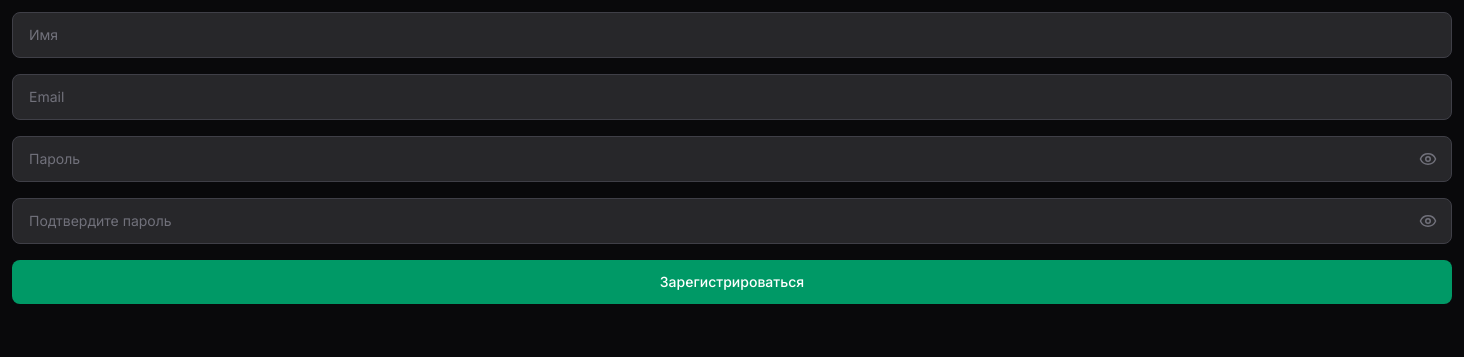
Scenario: RegisterForm › shows server-returned error
Type "Тест" into the field with placeholder "Имя" at x=732, y=35, box [12, 12, 1452, 58]
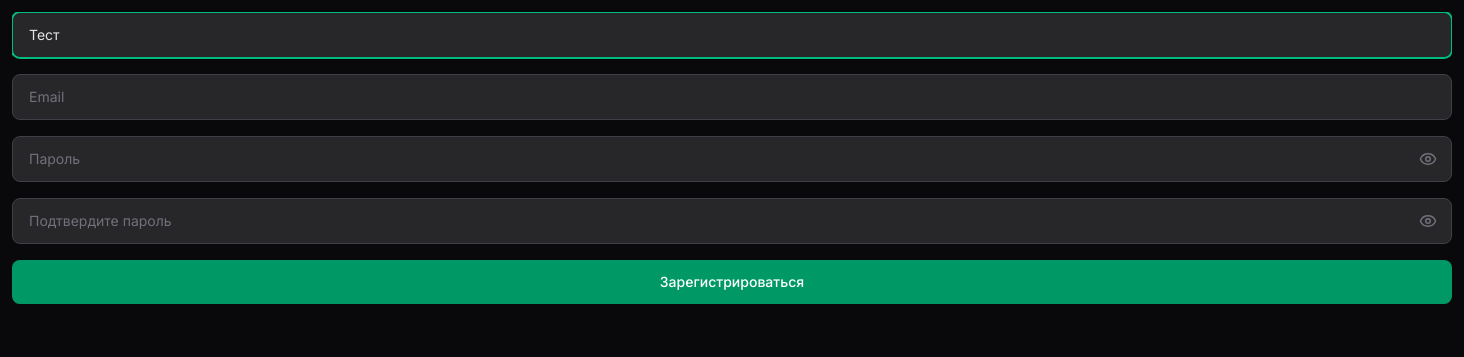
Type "test@example.com" into the field with placeholder "Email" at x=732, y=97, box [12, 74, 1452, 120]
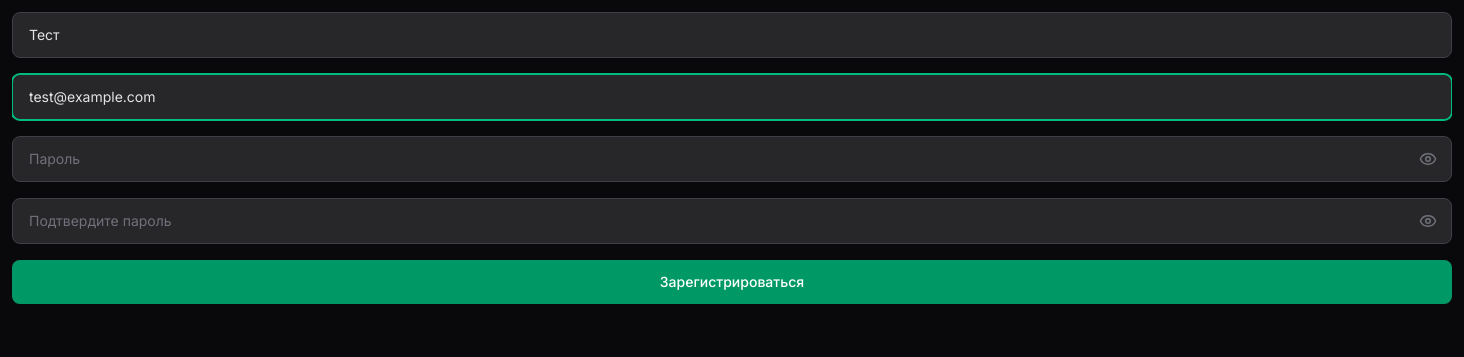
Type "password123" into the password field with placeholder "Пароль" at x=732, y=159, box [12, 136, 1452, 182]
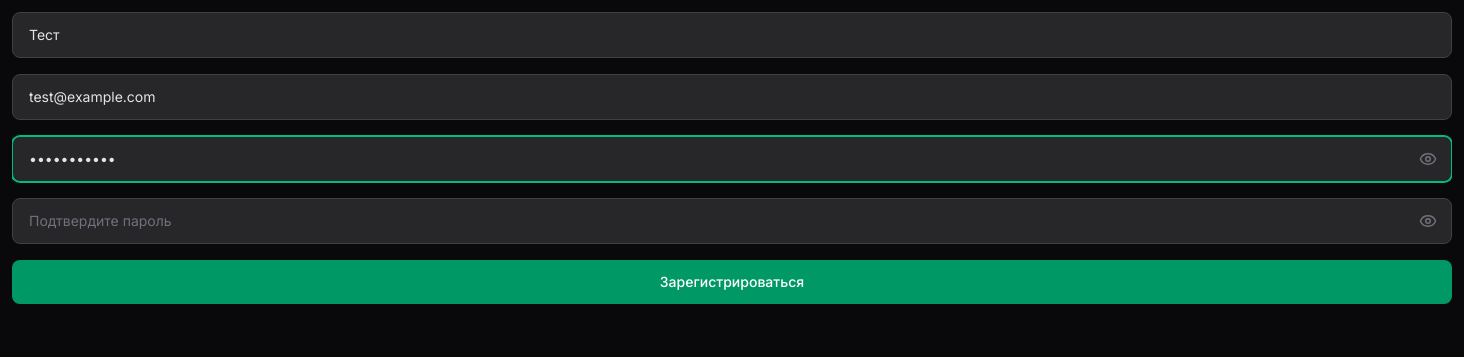
Type "password123" into the password field with placeholder "Подтвердите пароль" at x=732, y=221, box [12, 198, 1452, 244]
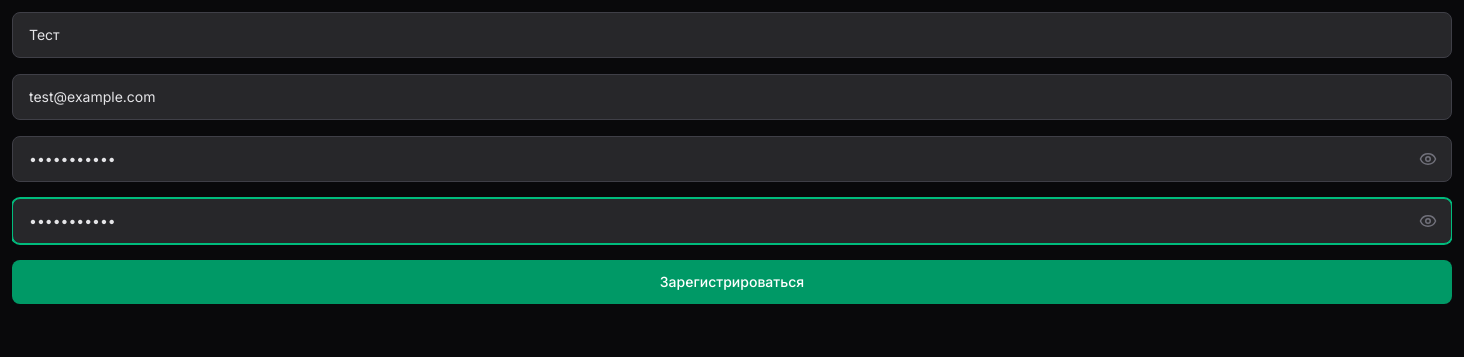
Click the button "Зарегистрироваться" at x=732, y=282, box [12, 260, 1452, 304]
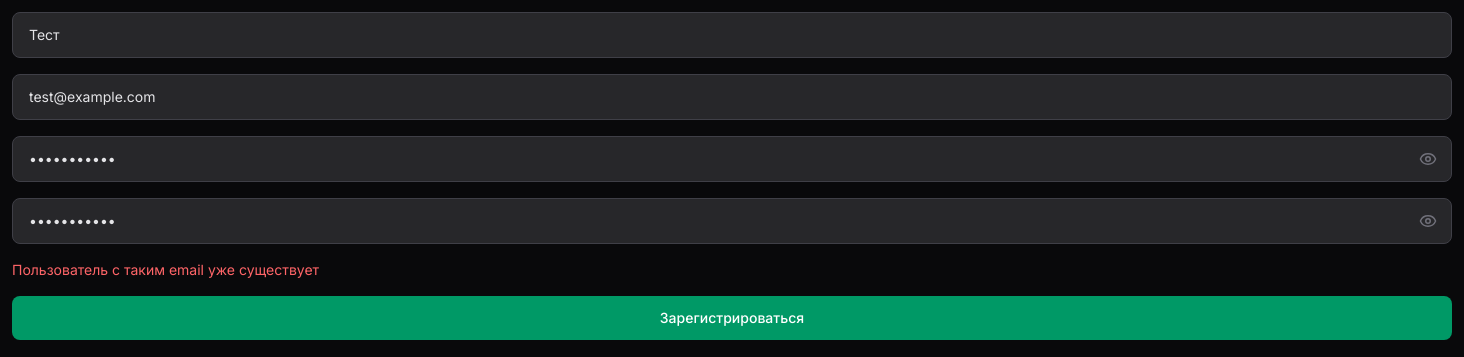
Now the text "Пользователь с таким email уже существует" is shown, box [12, 261, 319, 278]
